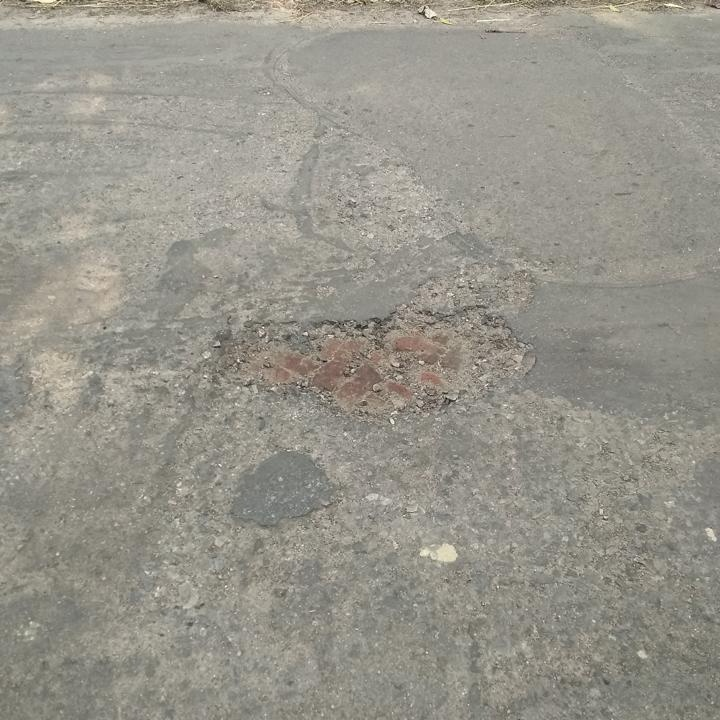pothole: (211, 304, 541, 426)
